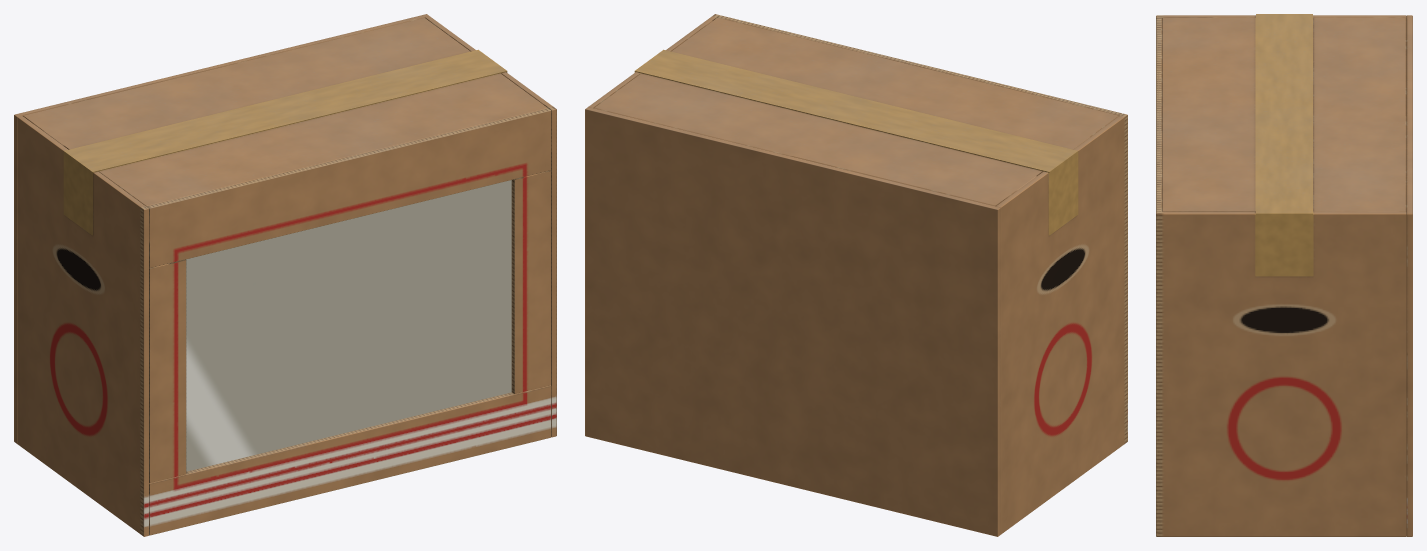
File: Carton.fbx
3 views of the same model, side by side, from view 1: azimuth 30°, elevation 25°; view 2: azimuth 150°, elevation 25°; view 3: azimuth 270°, elevation 25° (orthographic).
Visible parts, largest first — view 1: Carton_Carton, Carton_Film; view 2: Carton_Carton; view 3: Carton_Carton.
Boxes of the visible parts, box(x1,y1,x2,y2) form: Carton_Carton: box(14, 14, 556, 536); Carton_Film: box(186, 180, 511, 471); Carton_Carton: box(585, 14, 1127, 536); Carton_Carton: box(1156, 14, 1412, 536).
Size of the model in its own units: 1.66 by 1.25 by 0.9.
2 materials, 2 textured.
